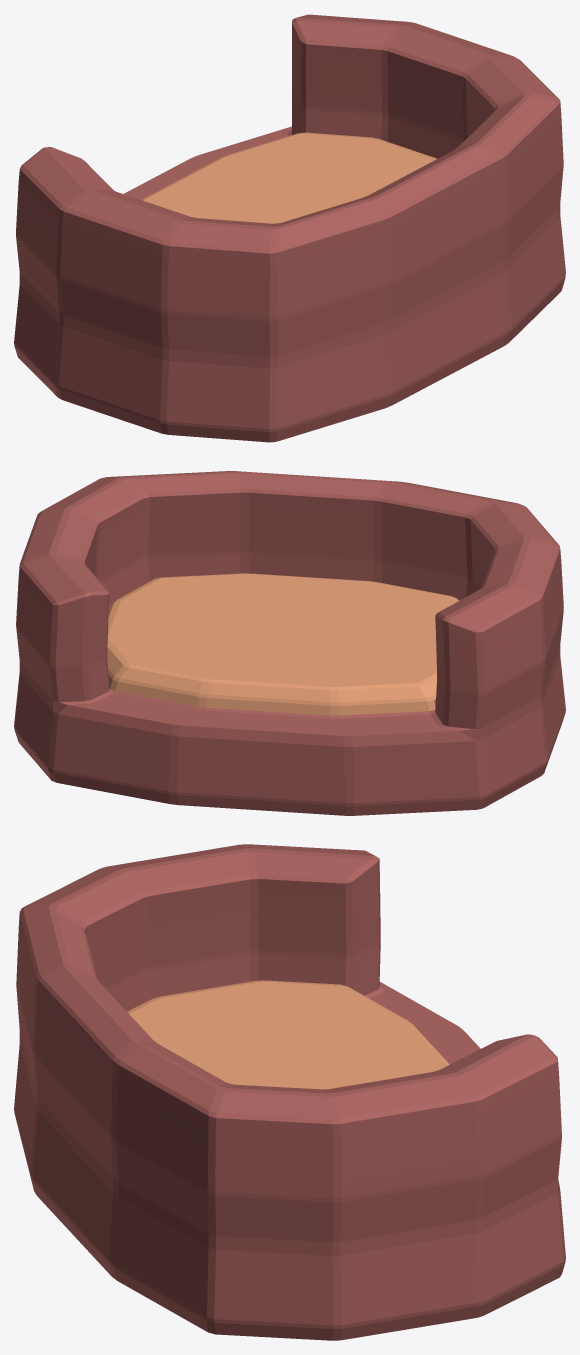
File: Livingroom_DogBed.fbx
The picture shows the model from 3 angles, top to bottom: view 1: azimuth 30°, elevation 25°; view 2: azimuth 150°, elevation 25°; view 3: azimuth 270°, elevation 25°; orthographic projection. The views are drawn at different scales.
Visible parts, largest first — view 1: Livingroom_DogBed.001, Livingroom_DogBed; view 2: Livingroom_DogBed.001, Livingroom_DogBed; view 3: Livingroom_DogBed.001, Livingroom_DogBed.
Part boxes in pixels (bbox=[...]): Livingroom_DogBed.001: bbox=[14, 14, 565, 442]; Livingroom_DogBed: bbox=[141, 132, 437, 223]; Livingroom_DogBed.001: bbox=[14, 471, 565, 815]; Livingroom_DogBed: bbox=[107, 573, 459, 715]; Livingroom_DogBed.001: bbox=[14, 844, 565, 1340]; Livingroom_DogBed: bbox=[127, 980, 449, 1089].
Size of the model in its own units: 89.73 by 41.24 by 110.
